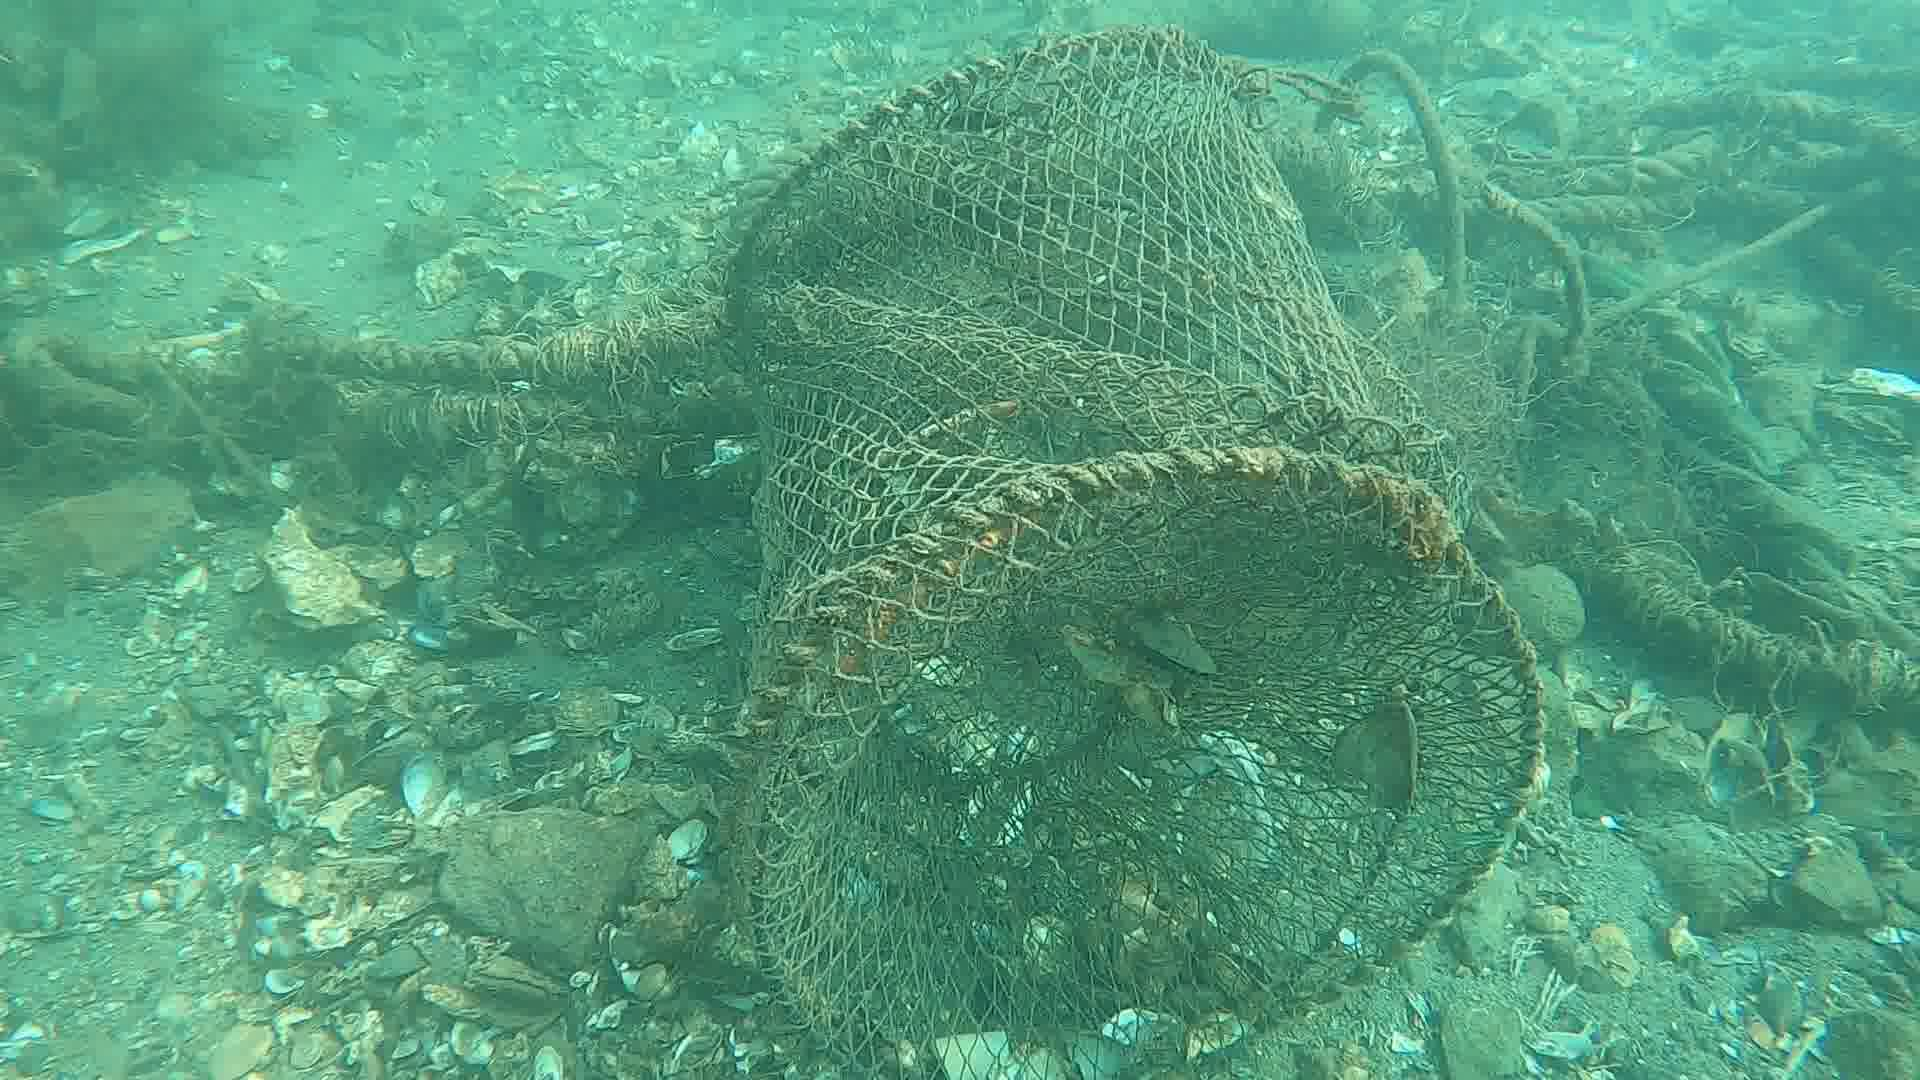bundle of ropes: (1542, 133, 1716, 228)
rope: (342, 336, 535, 381)
spring fish trap: (723, 25, 1545, 1080)
